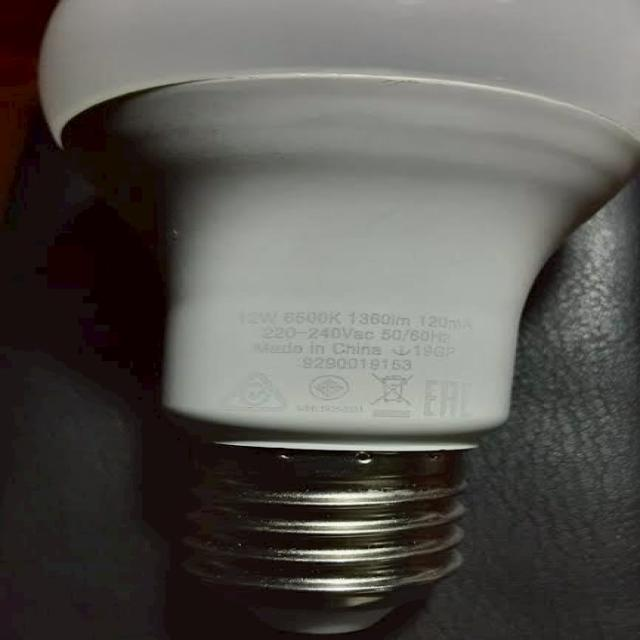bulb: (41, 2, 639, 640)
